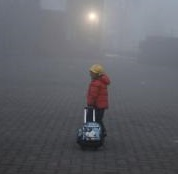person: (81, 60, 110, 143)
